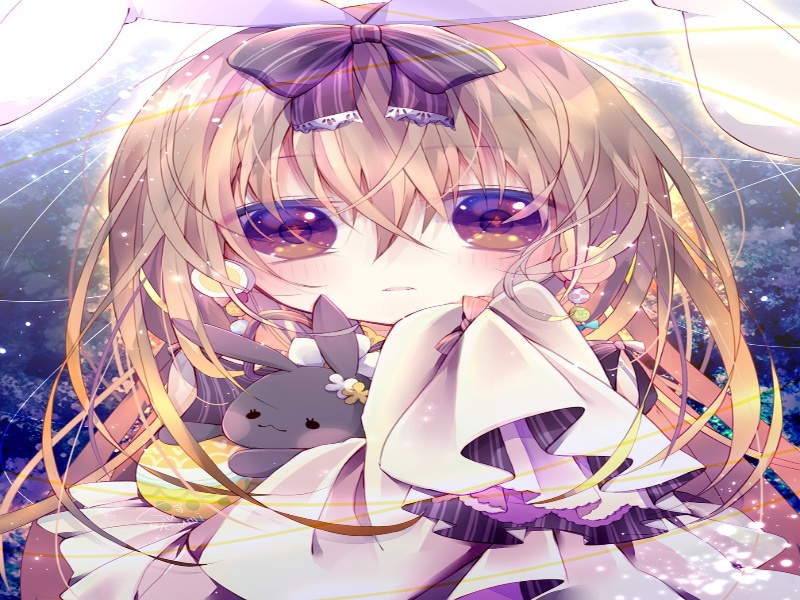person: (109, 20, 666, 370)
